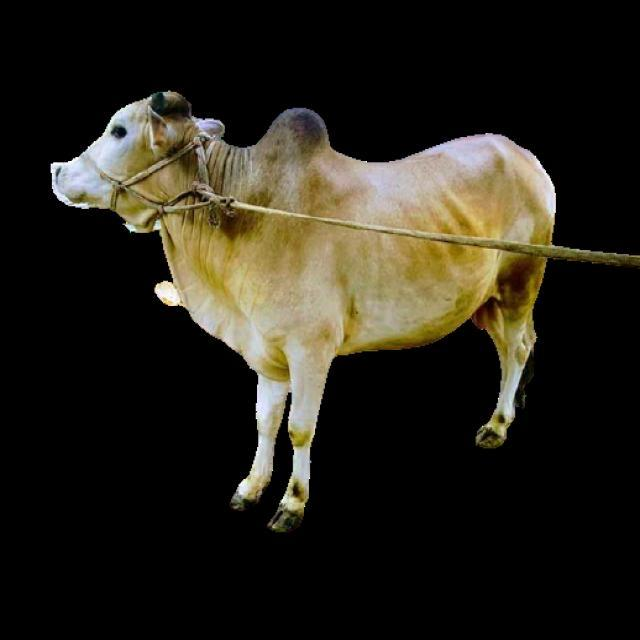cow: (51, 92, 555, 531)
